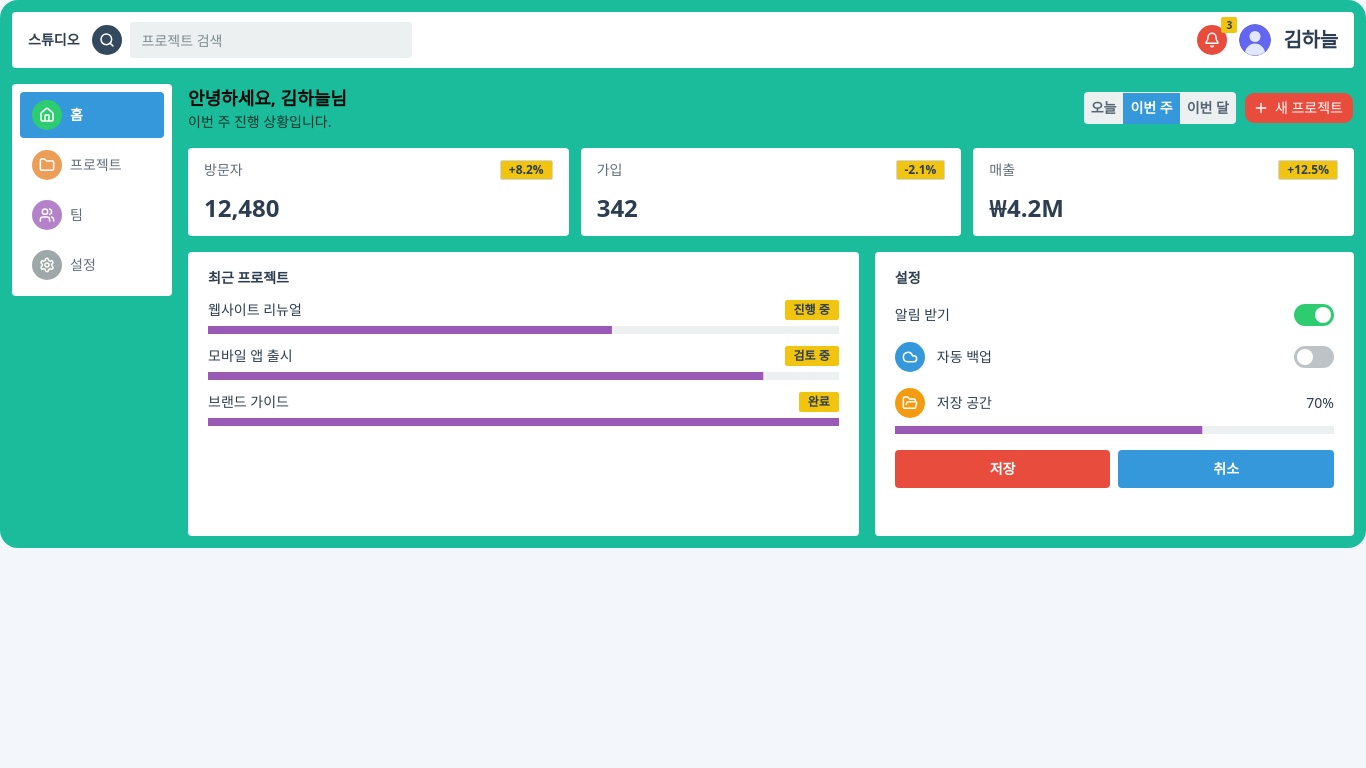
Test: things to try on the dashboard (D-019) › filters the projects with the search box
In the field labelled "프로젝트 검색": (270, 40) [130, 22, 412, 58], type "모바일"
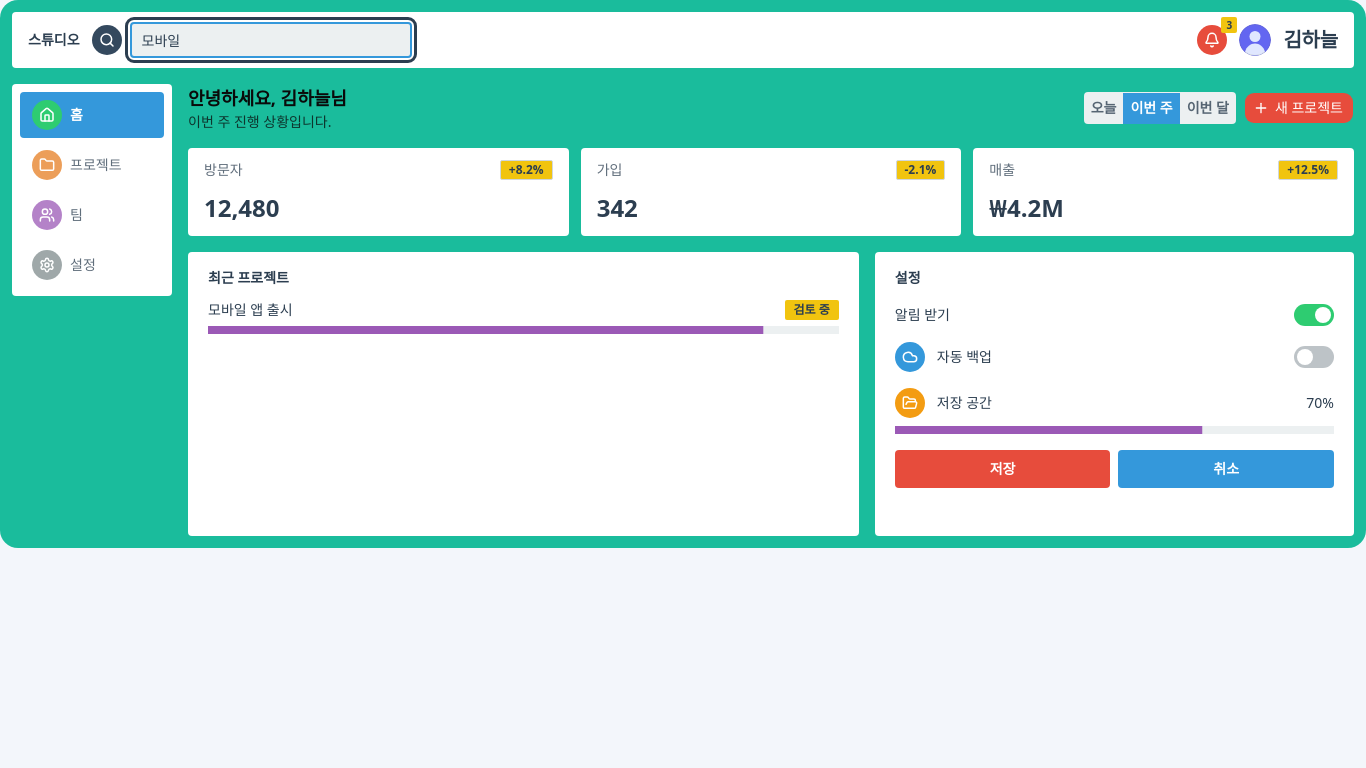
Replace the text in the field named "프로젝트 검색" with "없는 이름": (270, 40) [130, 22, 412, 58]
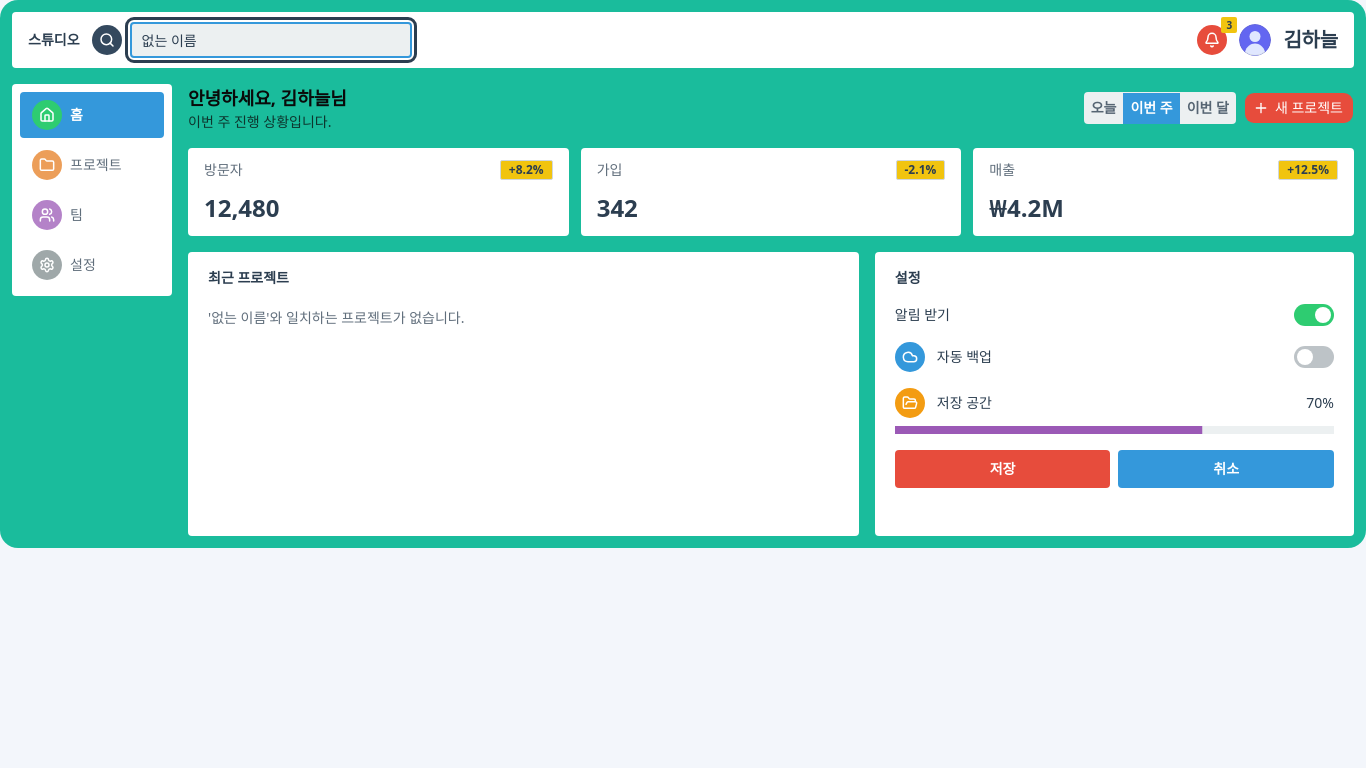
Now the text "'없는 이름'와 일치하는 프로젝트가 없습니다." is shown, box [208, 308, 464, 327]
